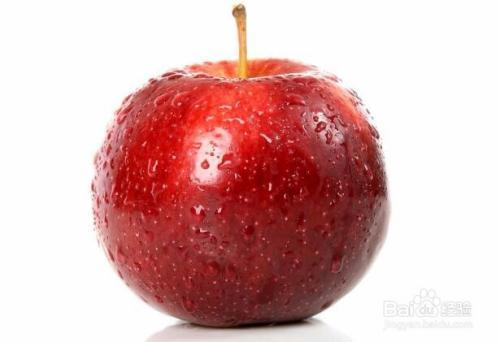apple: (88, 60, 390, 328)
